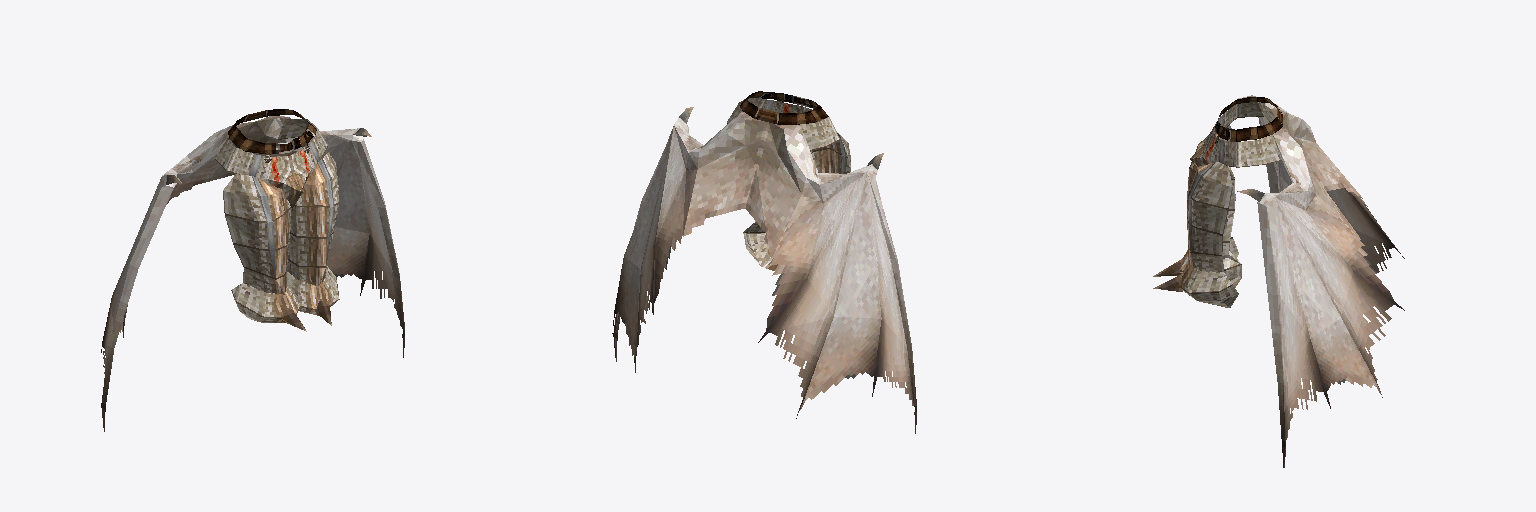
3 renders of one model, left to right at view 1: azimuth 30°, elevation 25°; view 2: azimuth 150°, elevation 25°; view 3: azimuth 270°, elevation 25°, orthographic.
Parts seen in each view (by area): view 1: mesh00; view 2: mesh00; view 3: mesh00.
Part boxes in pixels (x1,y1,x2,y2): mesh00: (101,109,404,431); mesh00: (612,91,916,433); mesh00: (1153,95,1404,467).
Bounding box in the file's own units: 131 × 119 × 94.86.
1 materials, 1 textured.